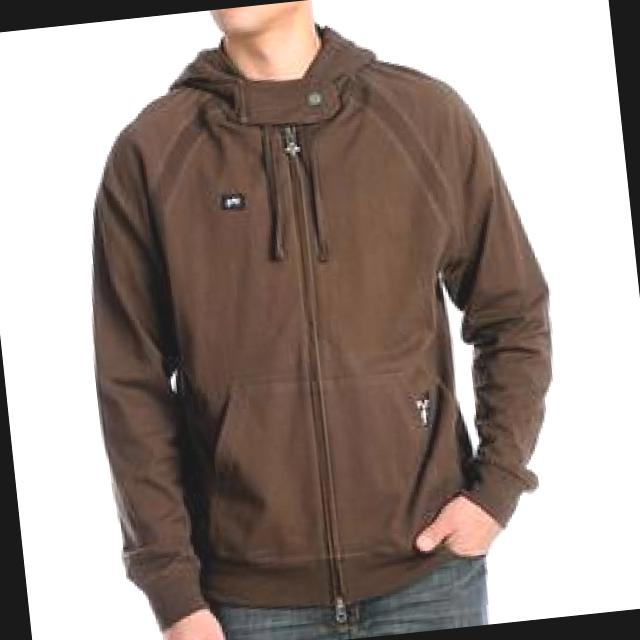sweater: (57, 1, 581, 639)
